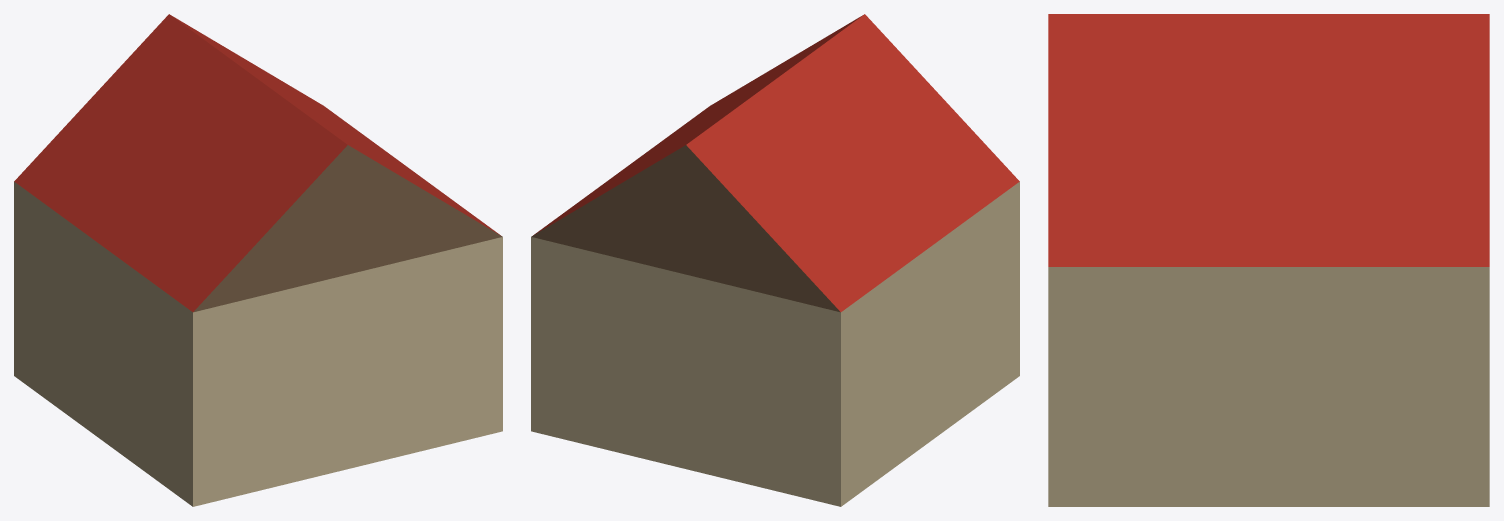
File: casa.obj
3 renders of one model, left to right at view 1: azimuth 30°, elevation 25°; view 2: azimuth 150°, elevation 25°; view 3: azimuth 270°, elevation 25°, orthographic. The views are drawn at different scales.
Parts seen in each view (by area): view 1: Casa; view 2: Casa; view 3: Casa.
Boxes of the visible parts, bbox=[...] form: Casa: bbox=[14, 14, 502, 506]; Casa: bbox=[531, 14, 1019, 506]; Casa: bbox=[1048, 14, 1489, 506].
Size of the model in its own units: 2 by 2 by 2.
